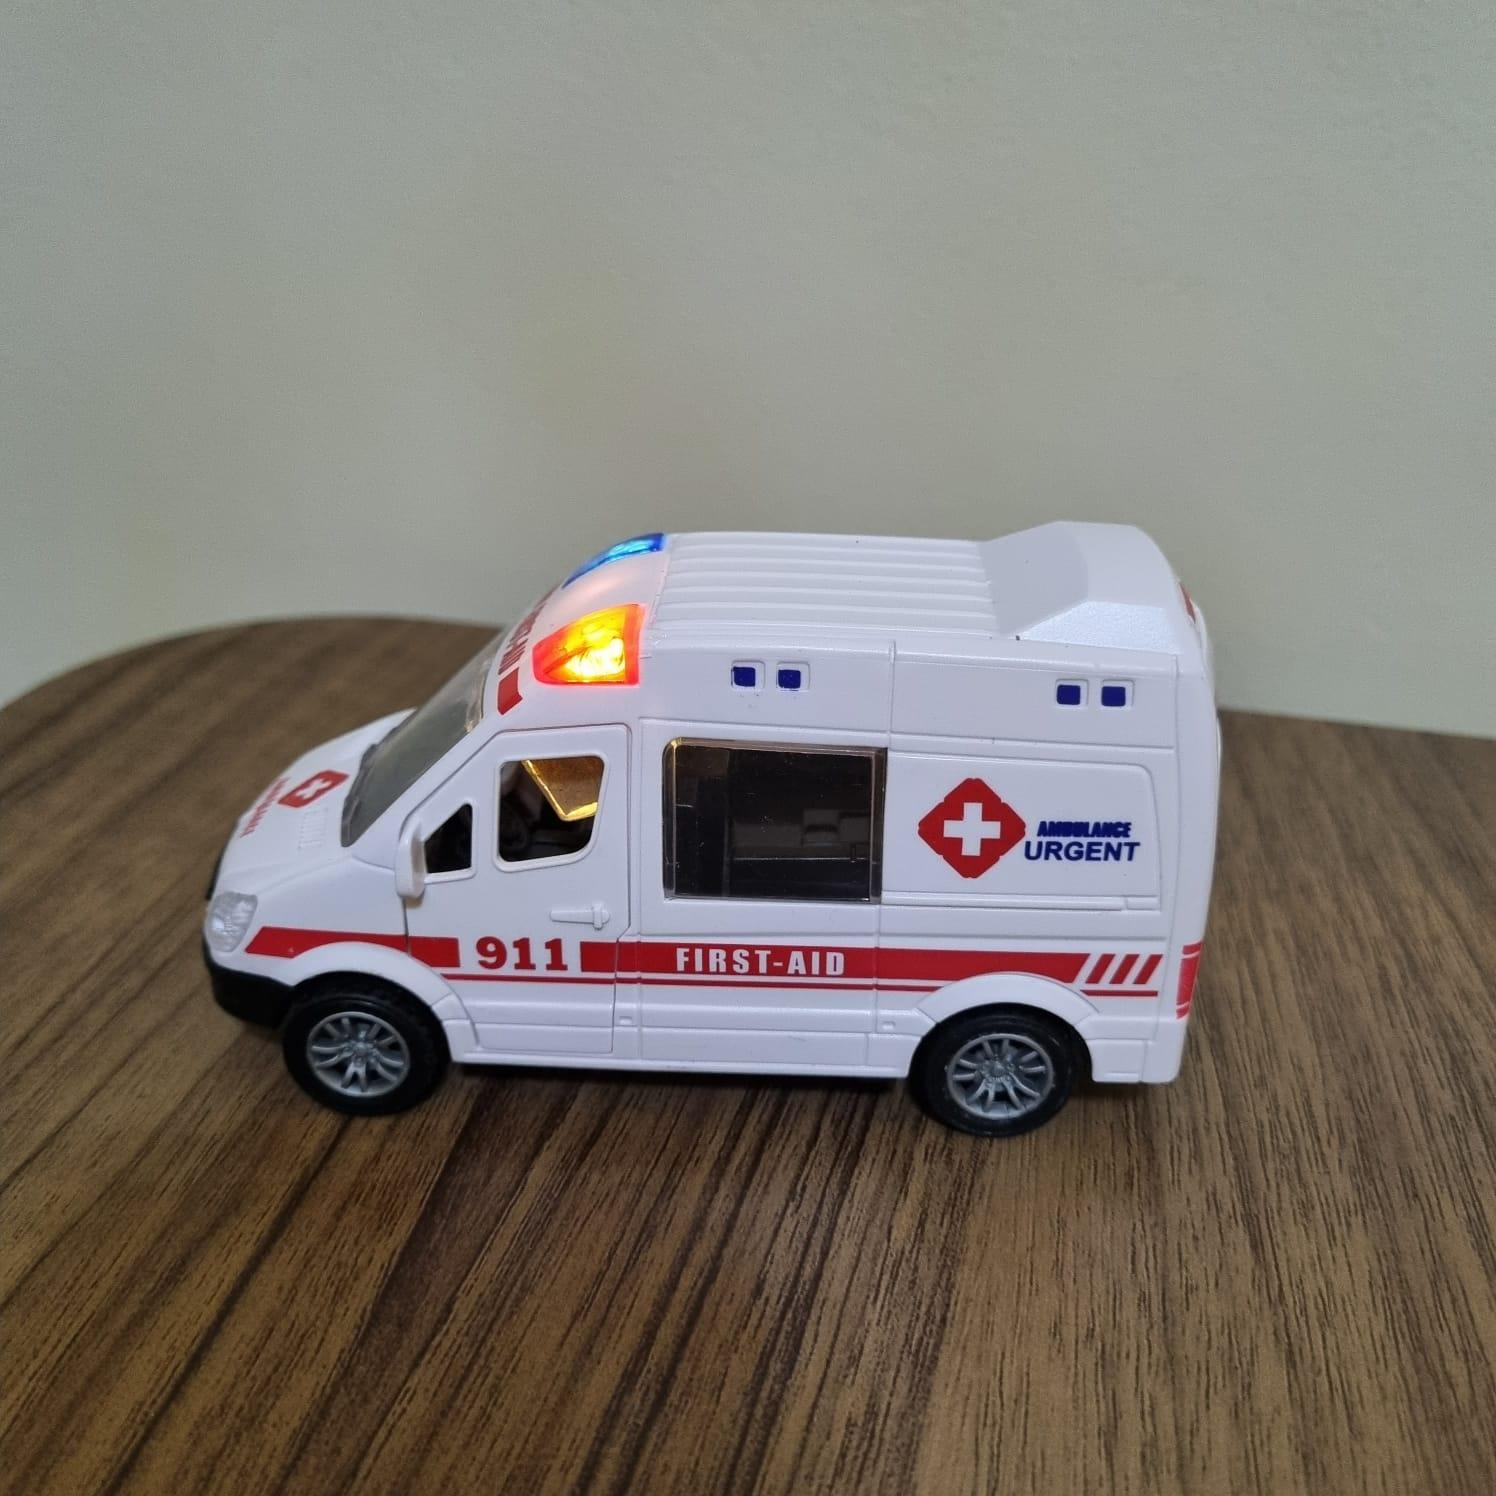ambulance_on: (201, 515, 1223, 1140)
